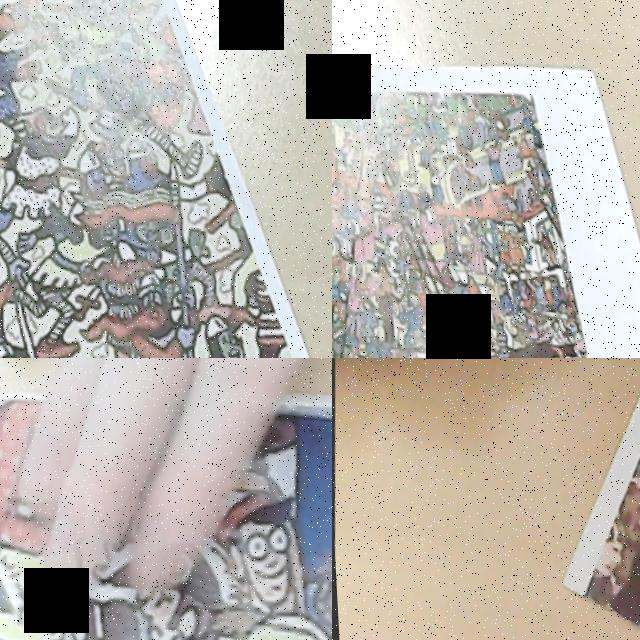waldo: (198, 467, 308, 625), (87, 127, 127, 178)
